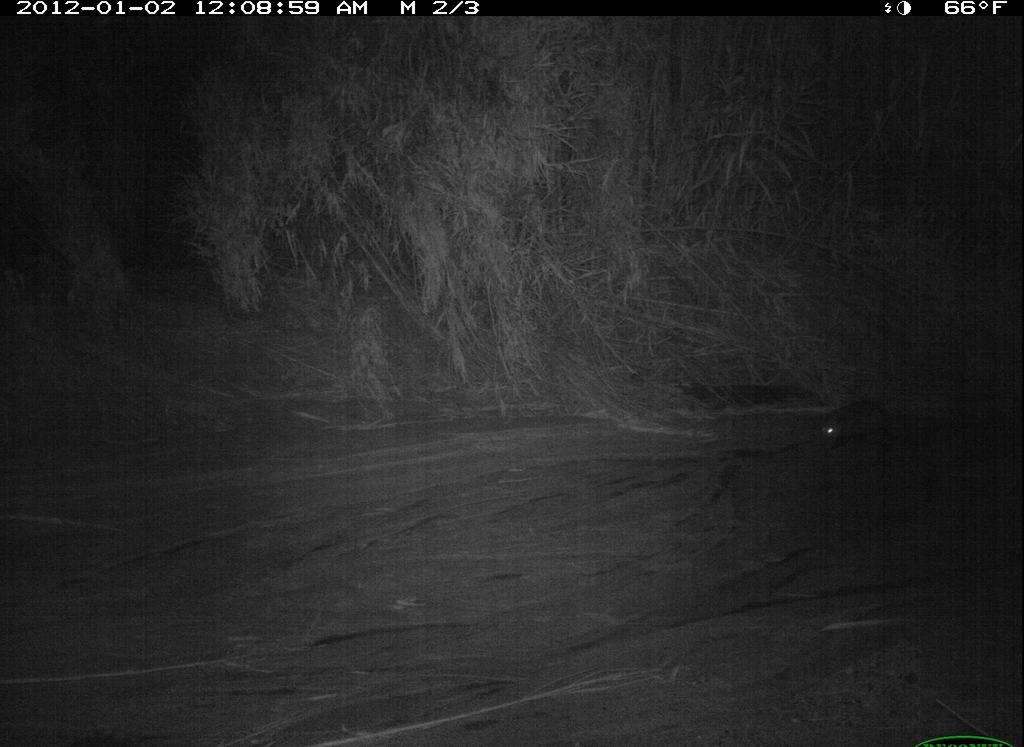opossum: (813, 390, 909, 456)
